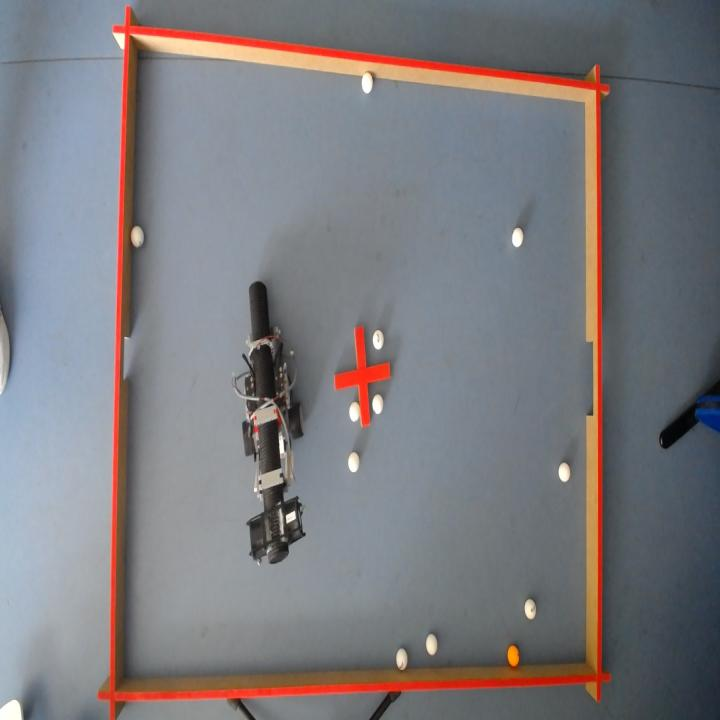orange: (508, 645, 520, 668)
robot: (232, 280, 304, 564)
white: (130, 225, 143, 246), (348, 451, 360, 472), (396, 649, 408, 670), (426, 635, 438, 656), (525, 599, 537, 620), (362, 70, 373, 92), (372, 394, 384, 414), (559, 462, 571, 482), (373, 329, 384, 349), (513, 227, 524, 246), (350, 401, 360, 421)
